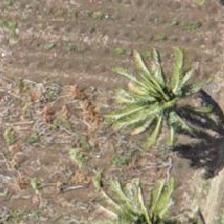coconut_tree: (118, 63, 208, 153)
